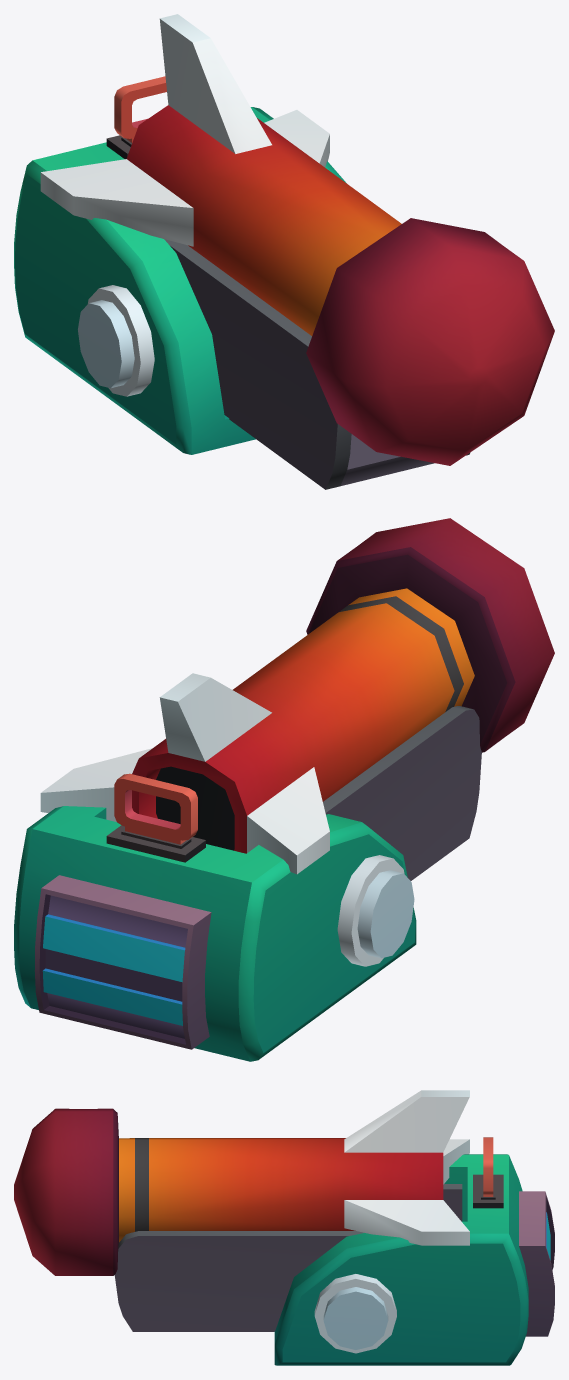
Rendered from Gun.fbx.
3 views of the same model, one above another, from view 1: azimuth 30°, elevation 25°; view 2: azimuth 150°, elevation 25°; view 3: azimuth 270°, elevation 25° (orthographic). The views are drawn at different scales.
Parts seen in each view (by area): view 1: Cube.002, Gun; view 2: Gun, Cube.002; view 3: Gun, Cube.002.
Part boxes in pixels (left/top/right/bottom): Cube.002: left=40, top=14, right=554, bottom=465; Gun: left=14, top=76, right=470, bottom=489; Gun: left=14, top=706, right=481, bottom=1061; Cube.002: left=40, top=518, right=554, bottom=874; Gun: left=114, top=1137, right=554, bottom=1365; Cube.002: left=14, top=1090, right=469, bottom=1275.
Bounding box in the file's own units: 72.2 × 74.23 × 157.
